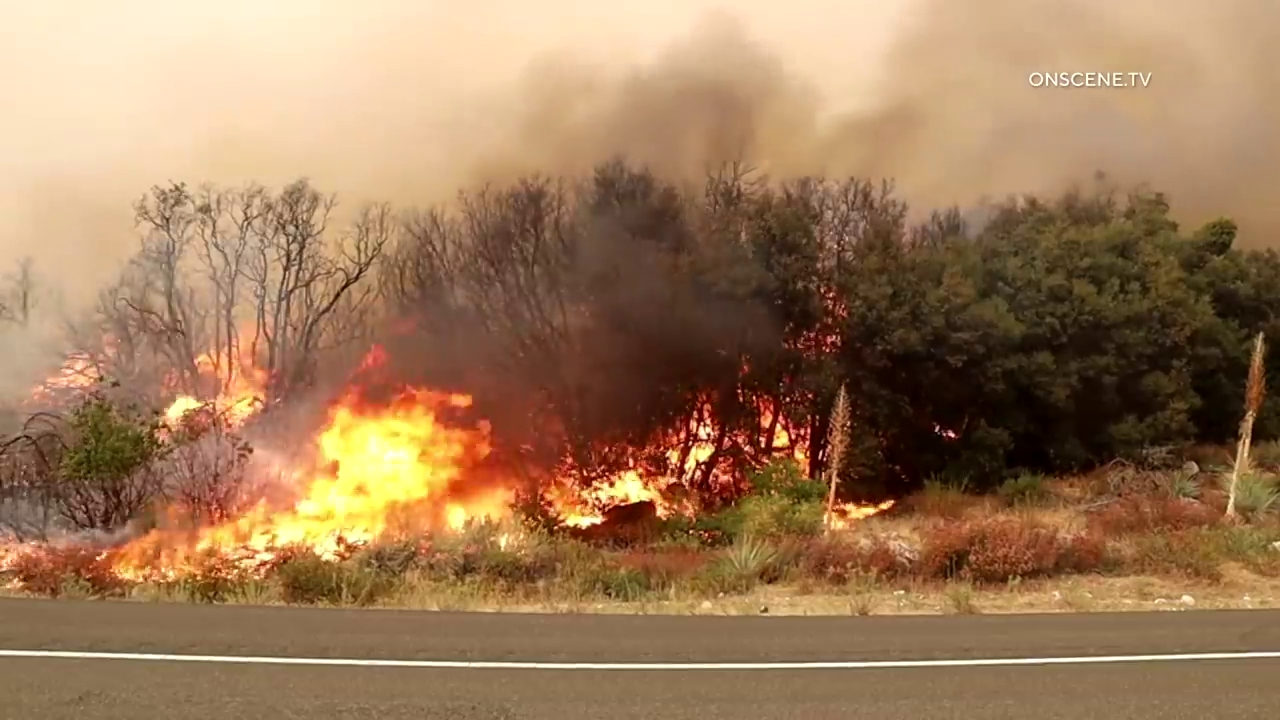forest_fire: (108, 388, 515, 578), (540, 420, 717, 525), (763, 409, 807, 461), (827, 500, 894, 527), (166, 397, 202, 421)
